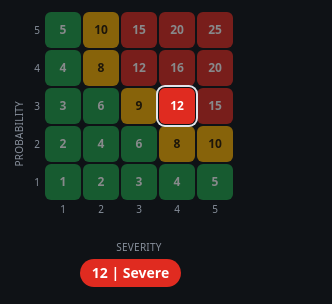
RiskMatrix › selects a cell on click and updates the summary
Step 1. Click the radio button named "Severity 2, probability 2" → (101, 144), box [83,126,119,162]
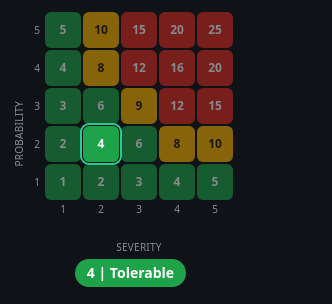
expect the text "4 | Tolerable" is shown: met, box [75,259,186,287]
